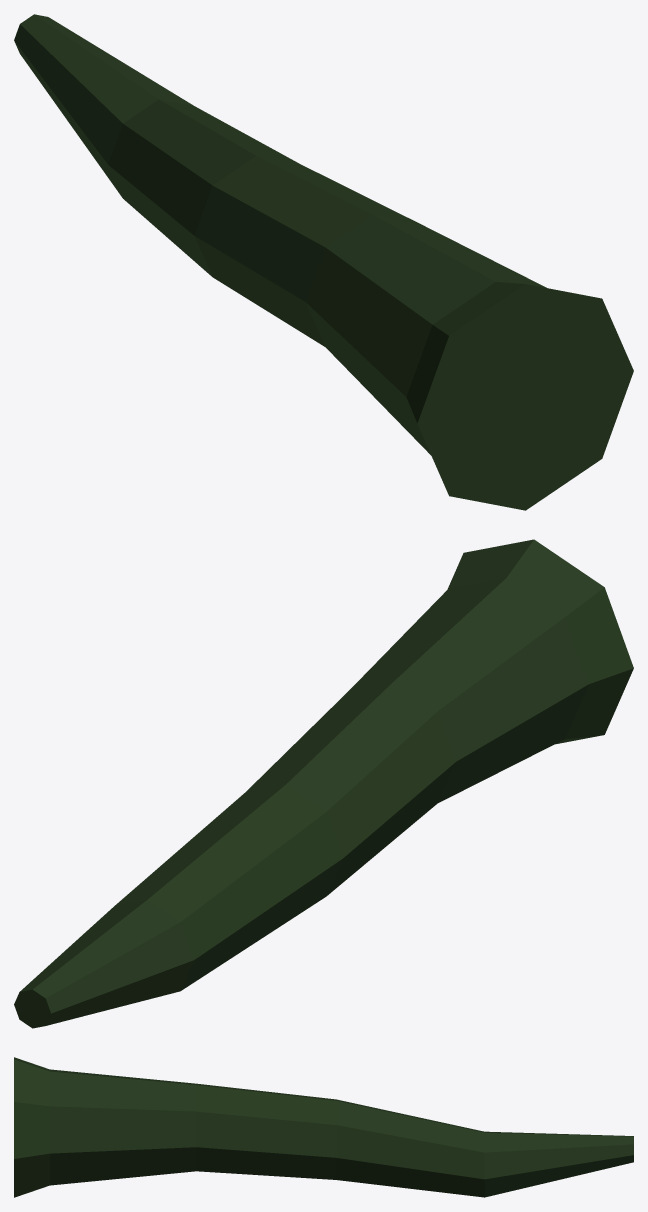
File: OakTree_5_X.fbx
The picture shows the model from 3 angles, top to bottom: view 1: azimuth 30°, elevation 25°; view 2: azimuth 150°, elevation 25°; view 3: azimuth 270°, elevation 25°; orthographic projection. The views are drawn at different scales.
Parts seen in each view (by area): view 1: OakTree_5_X; view 2: OakTree_5_X; view 3: OakTree_5_X.
Part boxes in pixels (x1=…): OakTree_5_X: x1=14, y1=14, x2=633, y2=510; OakTree_5_X: x1=14, y1=539, x2=633, y2=1028; OakTree_5_X: x1=14, y1=1057, x2=633, y2=1197.
Size of the model in its own units: 89.42 by 89.42 by 370.
